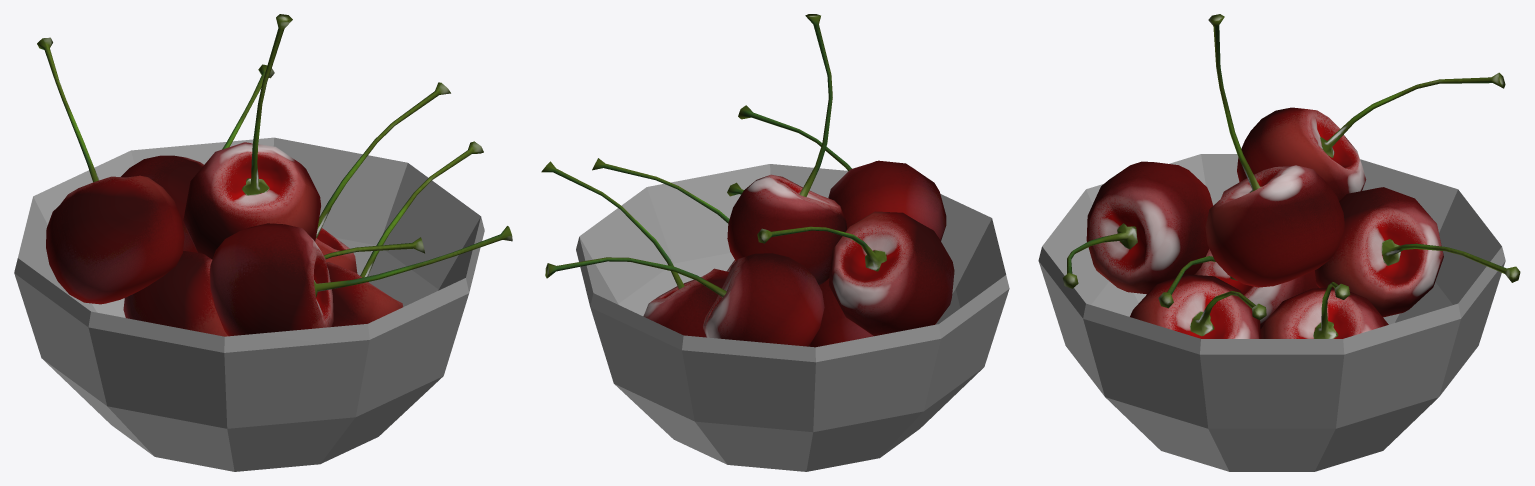
The model's file is testcherrry.fbx.
The picture shows the model from 3 angles, left to right: view 1: azimuth 30°, elevation 25°; view 2: azimuth 150°, elevation 25°; view 3: azimuth 270°, elevation 25°; orthographic projection. The views are drawn at different scales.
Parts seen in each view (by area): view 1: full_cherry.001; view 2: full_cherry.001; view 3: full_cherry.001.
Part boxes in pixels (box(x1,y1,x2,y2)): full_cherry.001: box(14, 14, 512, 471); full_cherry.001: box(541, 14, 1009, 471); full_cherry.001: box(1038, 14, 1520, 471).
Size of the model in its own units: 189 by 173 by 187.
